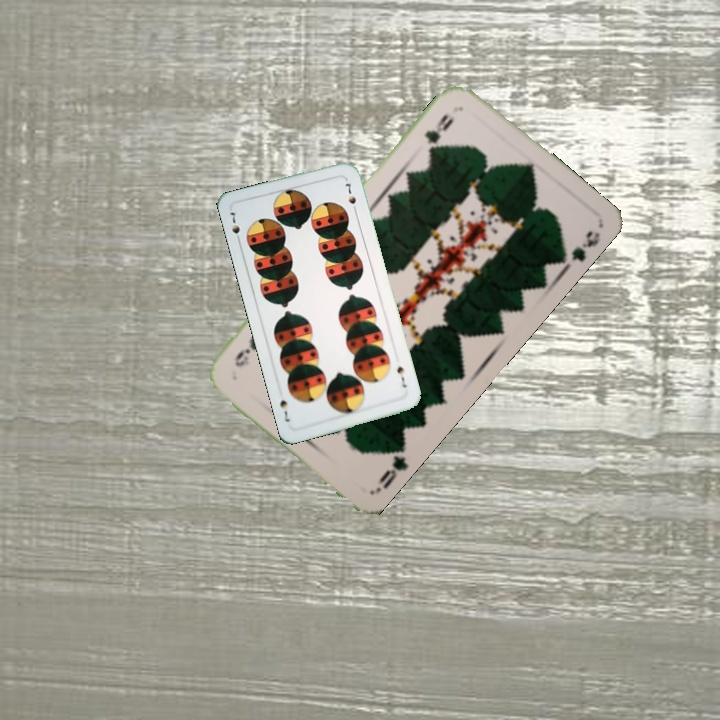G9: (372, 441, 410, 495), (420, 110, 457, 155)
S7: (226, 207, 243, 246), (393, 360, 409, 390)
